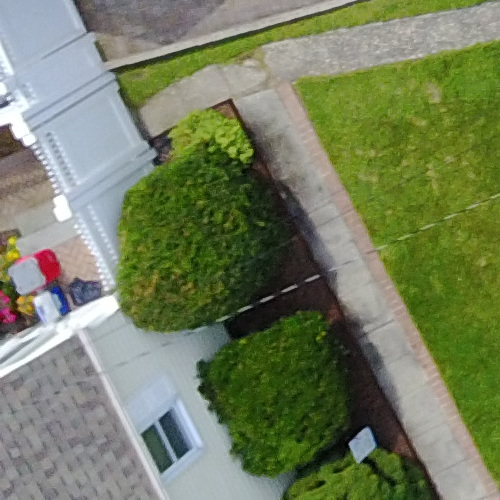container: (4, 236, 60, 300), (23, 284, 67, 341)
no larvae: (2, 234, 58, 298), (21, 282, 65, 339)
